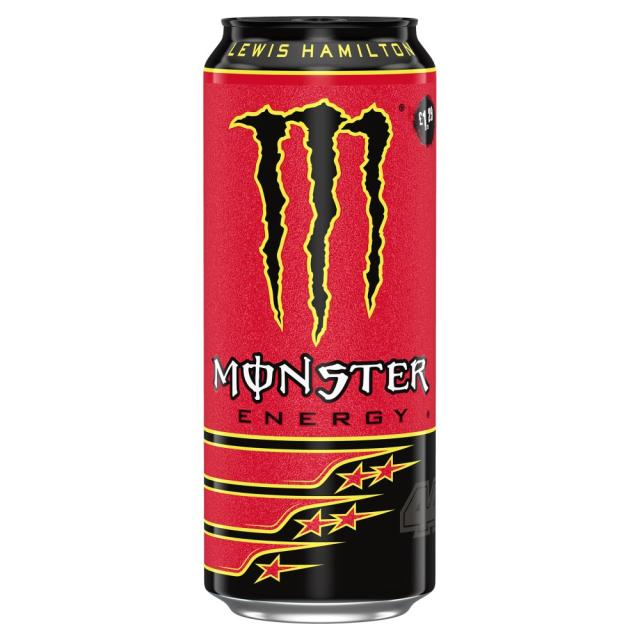Cans: (198, 8, 443, 626)
